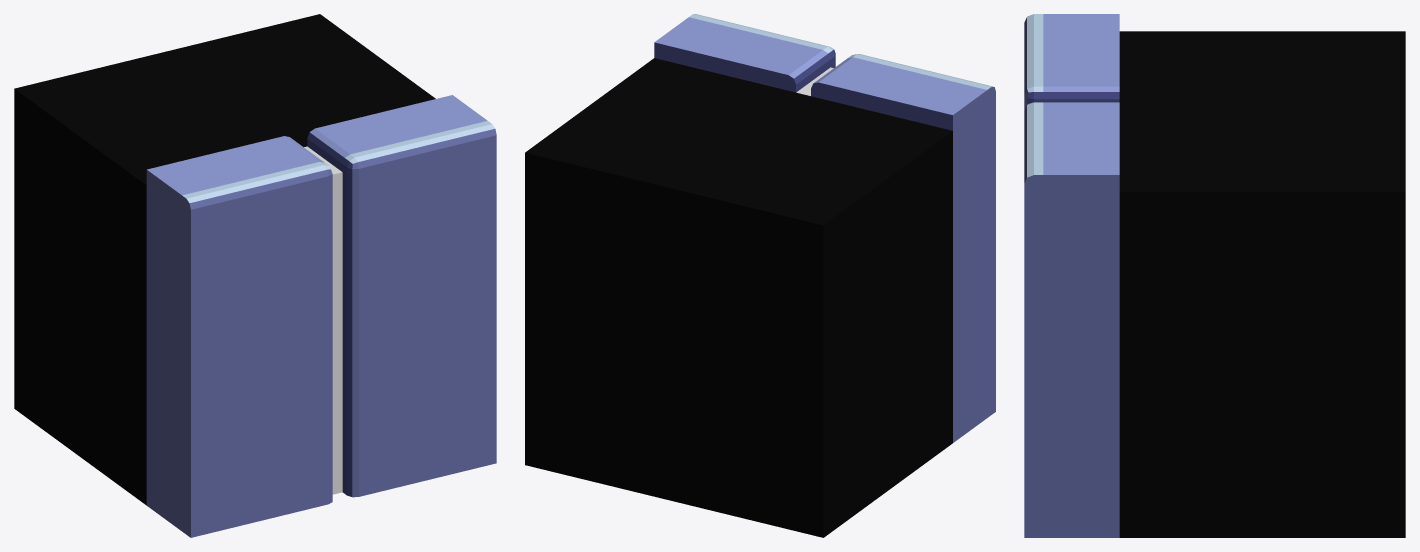
The model's file is UFO_Wall.fbx.
The picture shows the model from 3 angles, left to right: view 1: azimuth 30°, elevation 25°; view 2: azimuth 150°, elevation 25°; view 3: azimuth 270°, elevation 25°; orthographic projection. The views are drawn at different scales.
Parts seen in each view (by area): view 1: Cube; view 2: Cube; view 3: Cube.
Part boxes in pixels (x1,y1,x2,y2): Cube: (14, 14, 496, 537); Cube: (525, 14, 995, 537); Cube: (1024, 14, 1405, 537).
Size of the model in its own units: 2 by 2.1 by 2.
